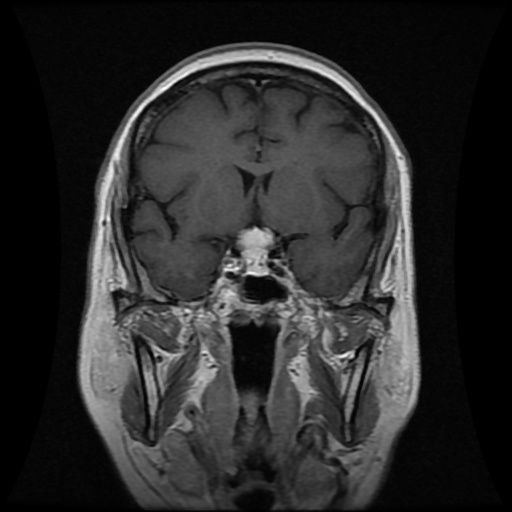meningioma: (235, 225, 275, 276)
